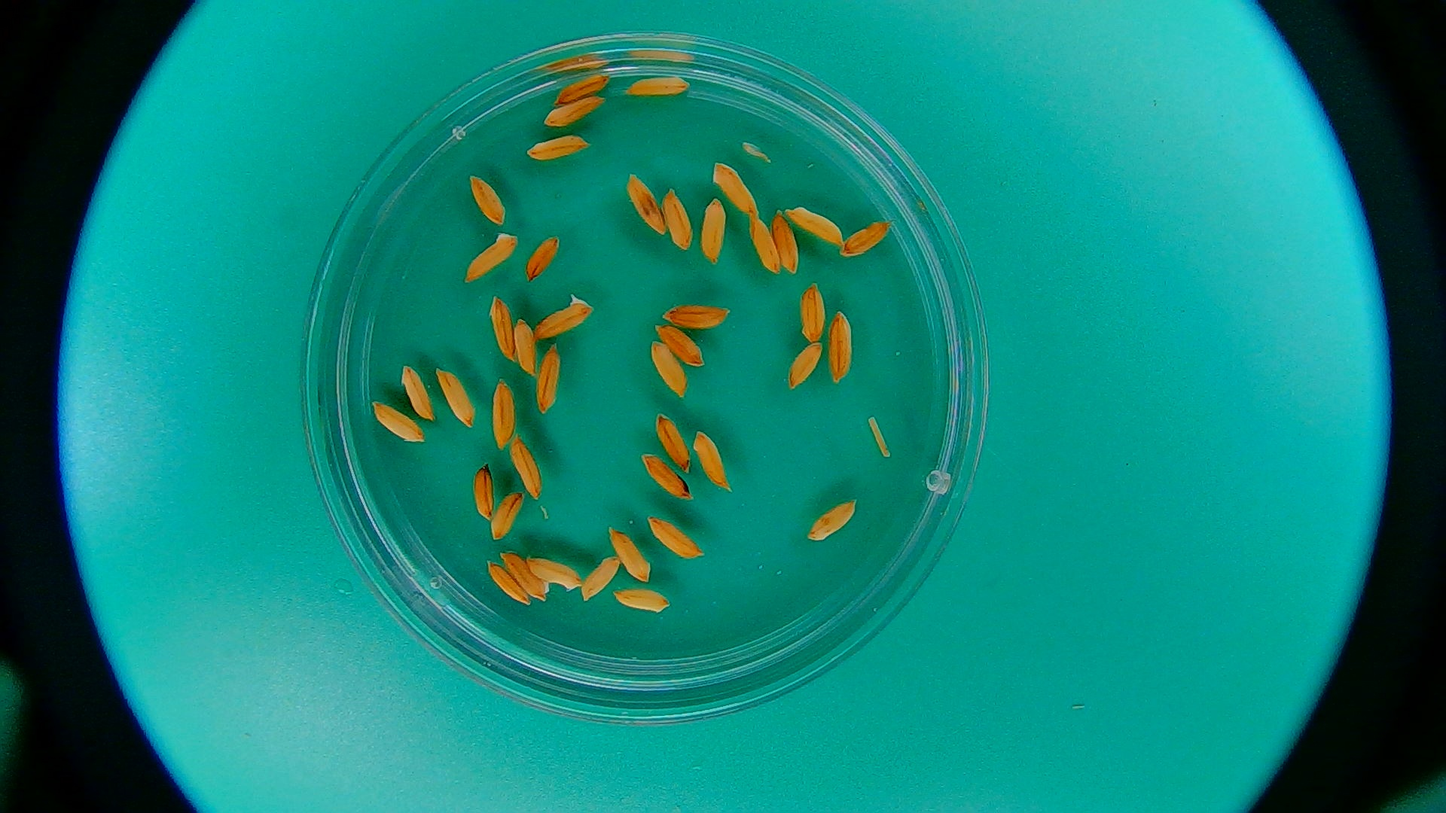no: (459, 229, 523, 289), (780, 201, 851, 251), (647, 409, 697, 480), (641, 512, 707, 565), (651, 318, 708, 379), (691, 194, 737, 269), (636, 447, 694, 505), (657, 298, 734, 341), (369, 395, 429, 449), (692, 428, 735, 501), (465, 166, 514, 230), (605, 525, 657, 585), (643, 336, 688, 405), (496, 549, 552, 604), (838, 212, 895, 266), (546, 65, 617, 108), (541, 90, 612, 133), (709, 157, 759, 218), (652, 187, 697, 254), (523, 131, 593, 174), (621, 65, 691, 108), (782, 336, 828, 399), (505, 432, 545, 502), (825, 303, 859, 385), (572, 552, 626, 603), (431, 366, 474, 426), (523, 550, 584, 592), (743, 207, 779, 277), (768, 209, 804, 279), (793, 274, 829, 344), (524, 227, 567, 285), (609, 583, 676, 620), (398, 359, 436, 424), (804, 499, 856, 546), (485, 295, 519, 366), (511, 310, 545, 381), (531, 343, 565, 413), (624, 177, 663, 238), (484, 379, 517, 449), (484, 489, 522, 544), (470, 461, 495, 522)
yes: (536, 294, 595, 340)
